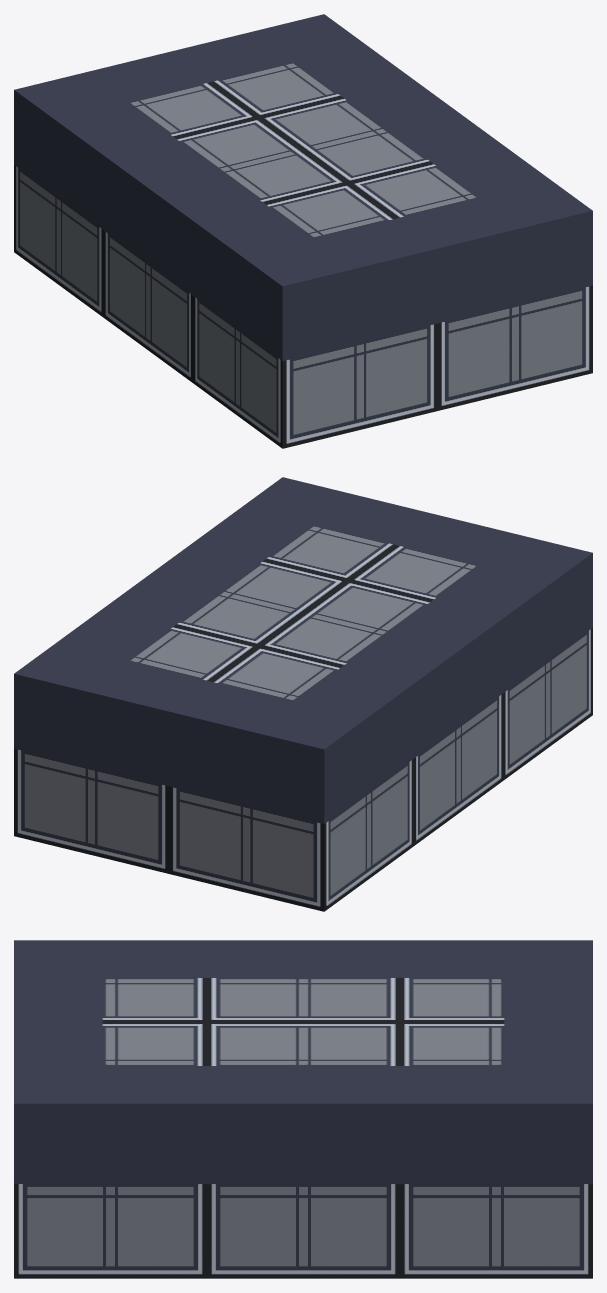
File: platform2x3.glb
3 renders of one model, top to bottom at view 1: azimuth 30°, elevation 25°; view 2: azimuth 150°, elevation 25°; view 3: azimuth 270°, elevation 25°, orthographic. The views are drawn at different scales.
Parts seen in each view (by area): view 1: platform_2x3; view 2: platform_2x3; view 3: platform_2x3.
Boxes of the visible parts, left/top/right/bottom form: platform_2x3: left=14, top=14, right=592, bottom=448; platform_2x3: left=14, top=477, right=592, bottom=911; platform_2x3: left=14, top=940, right=592, bottom=1278.
Size of what is drawn, in the model's own units: 2 by 1 by 3.
Materials: 2 (2 with a texture image).
